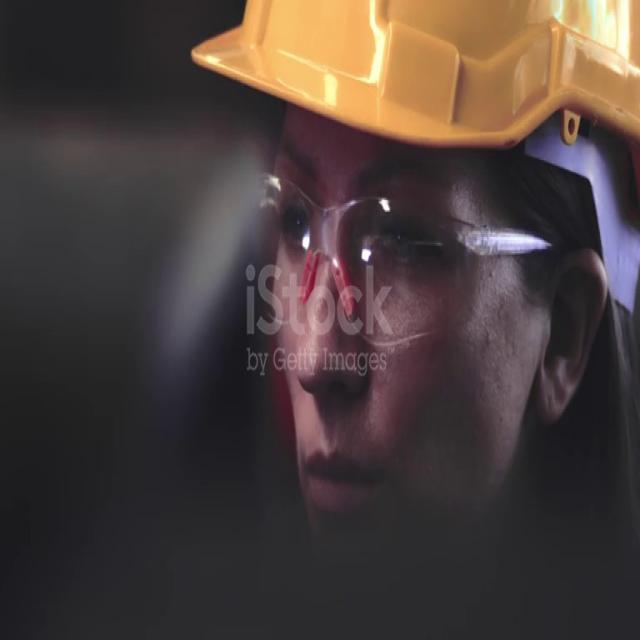capacete: (185, 0, 640, 267)
